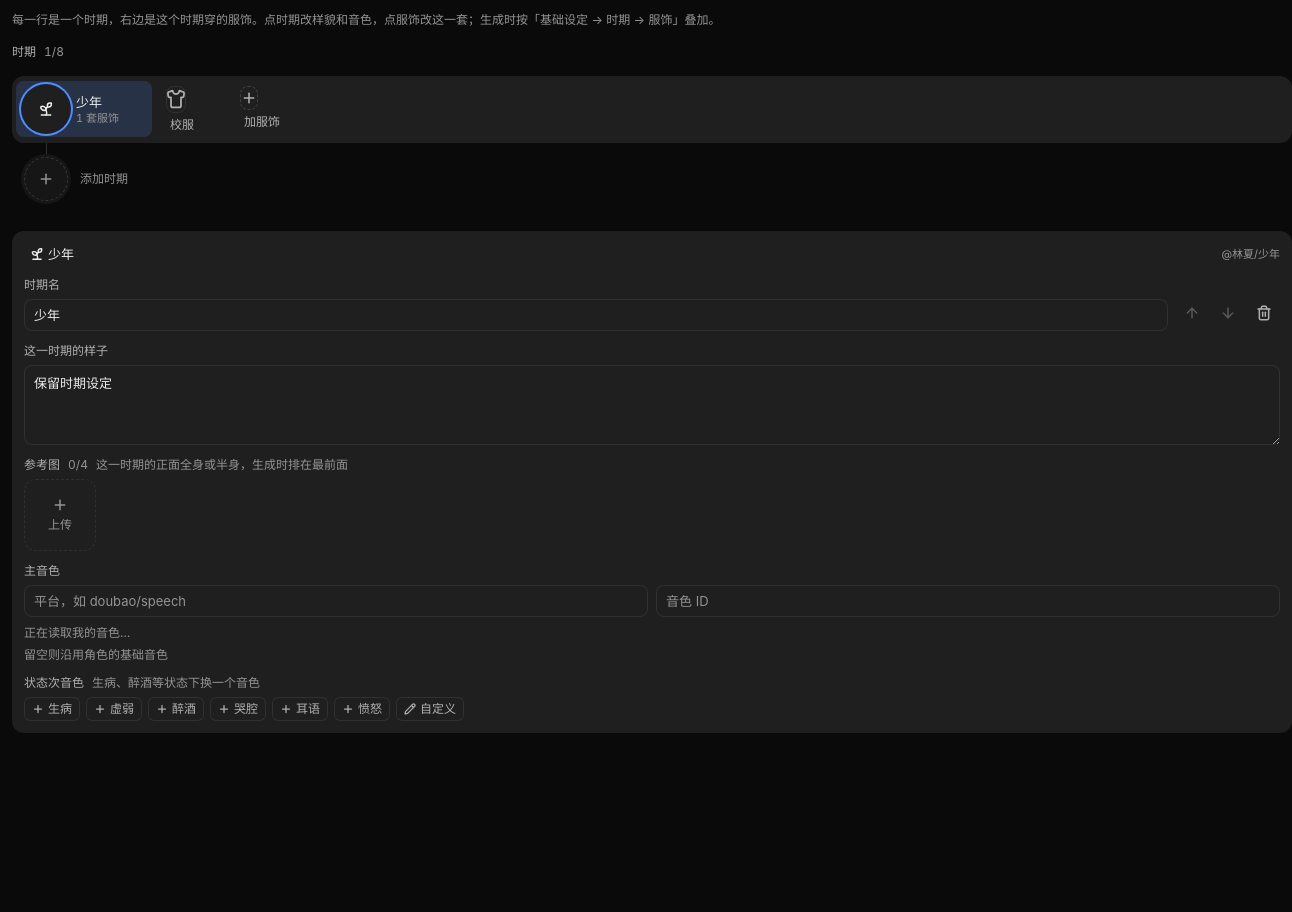
Test case: 角色档案面板 › 自定义名字在输入法组字时不提前添加，正常回车只保存一次
Click the button "添加时期".
click(78, 179)  # box [16,151,140,207]
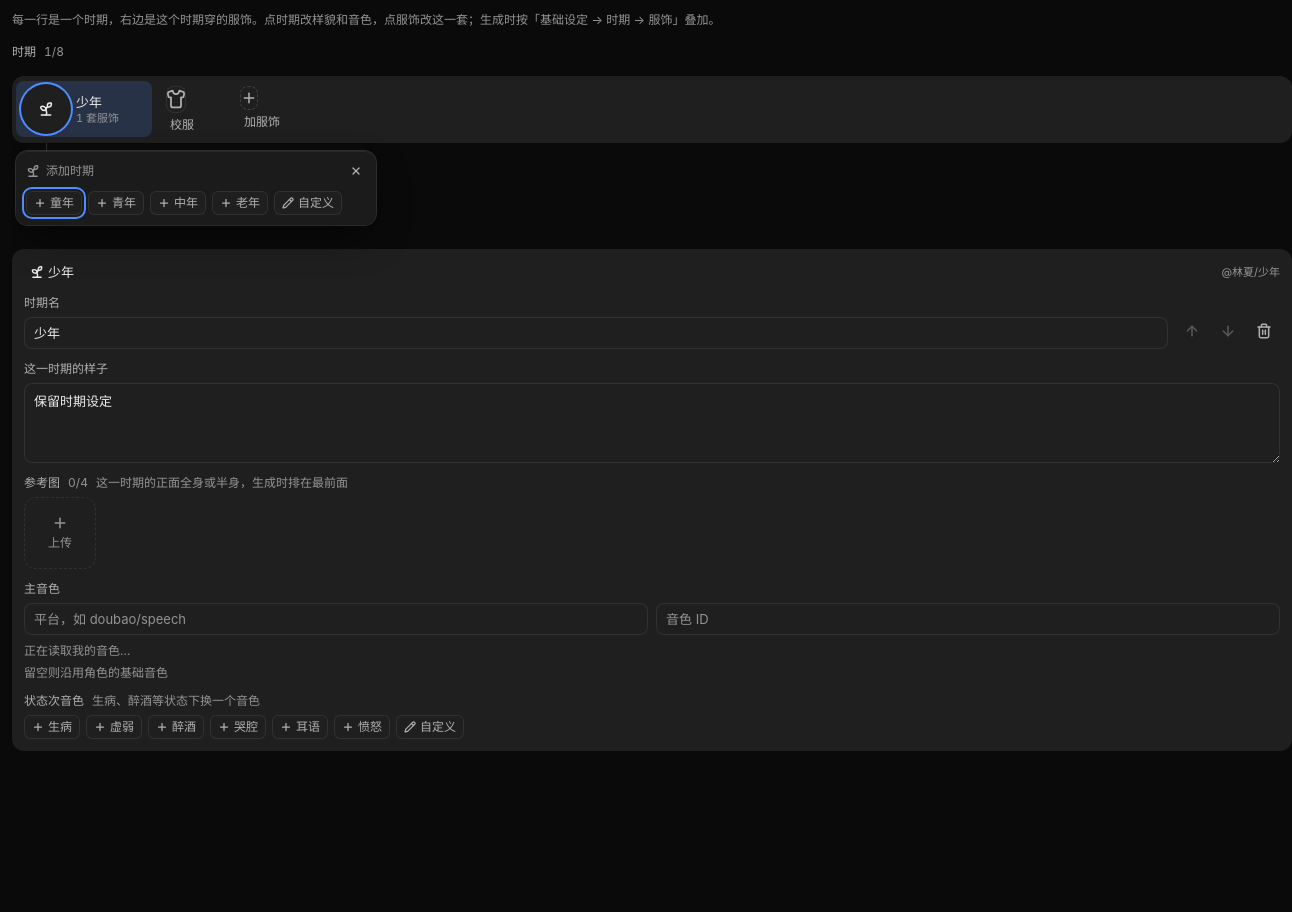
Click the button "自定义" below "添加时期".
click(308, 203)  # box [274,191,342,215]
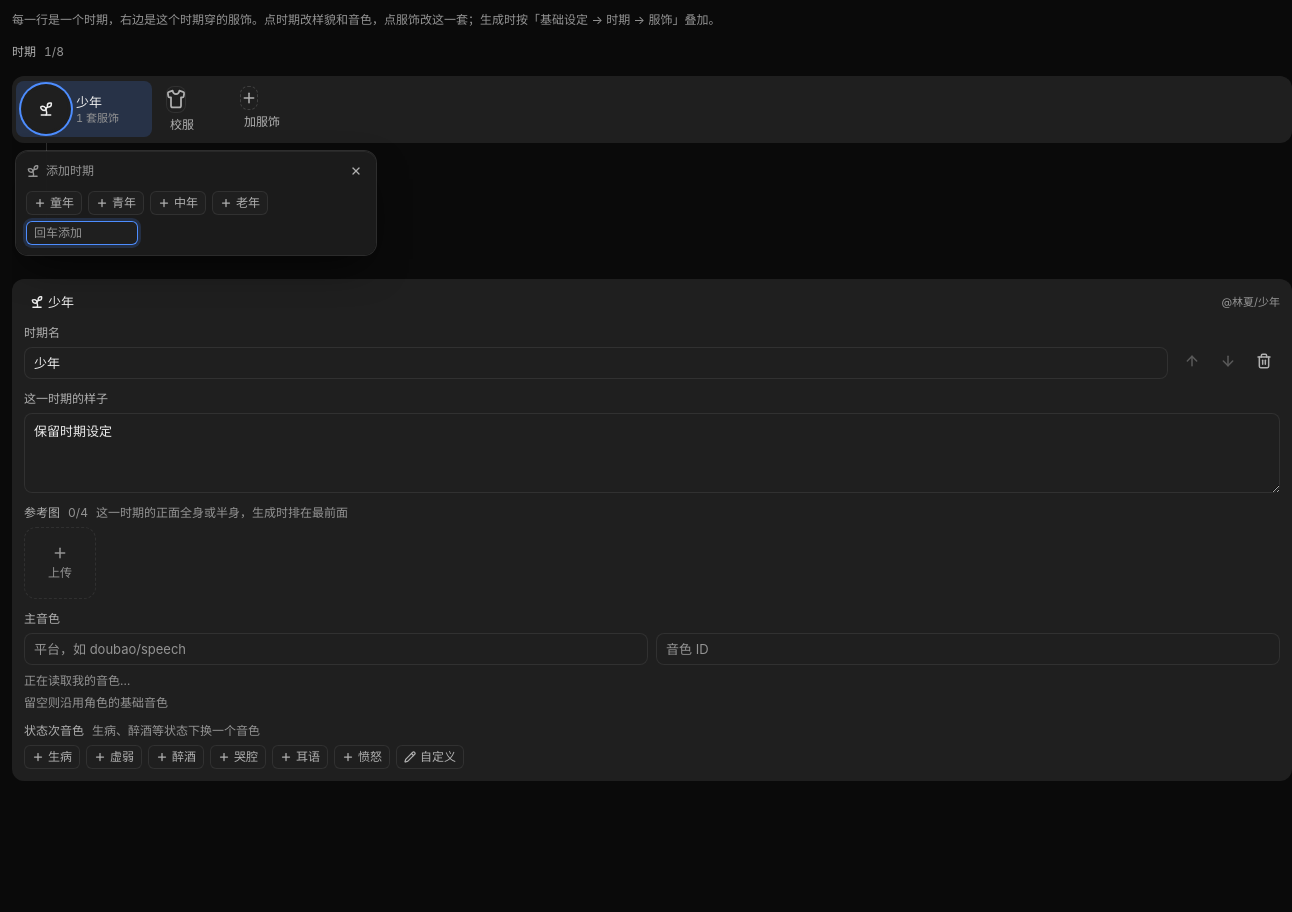
Type "自定义阶段" into the field named "自定义名字".
click(82, 233); type("自定义阶段")  # box [26,221,138,245]
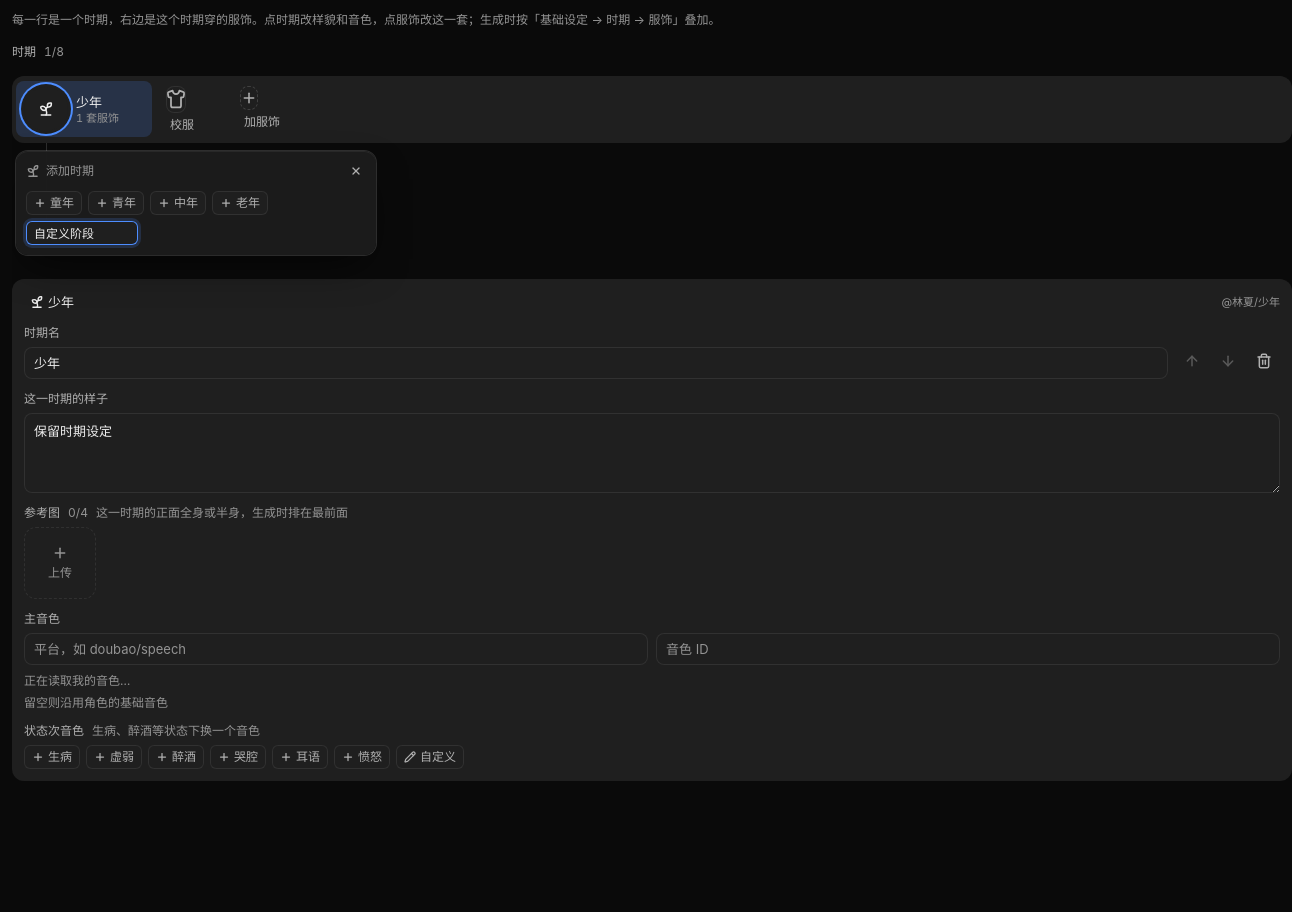
Press Enter in the field named "自定义名字", box [26,221,138,245]
Press Enter in the field named "自定义名字", box [26,221,138,245]
Press Escape in the field named "自定义名字", box [26,221,138,245]
Press Escape in the field named "自定义名字", box [26,221,138,245]
Press Enter in the field named "自定义名字", box [26,221,138,245]
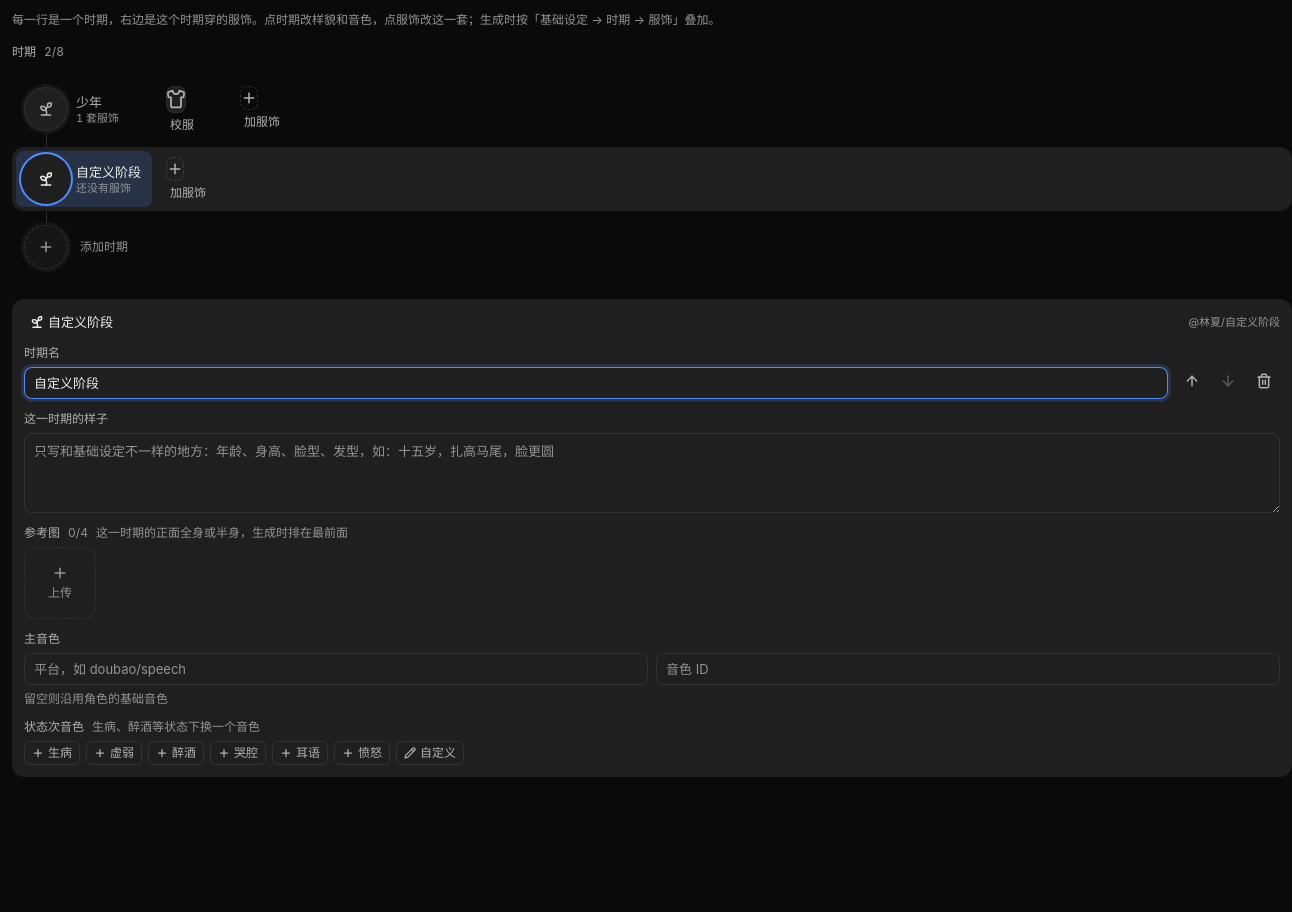
Result: the field labelled "时期名" holds "自定义阶段" at [24,367,1168,399]
Result: the field labelled "自定义名字" is gone
